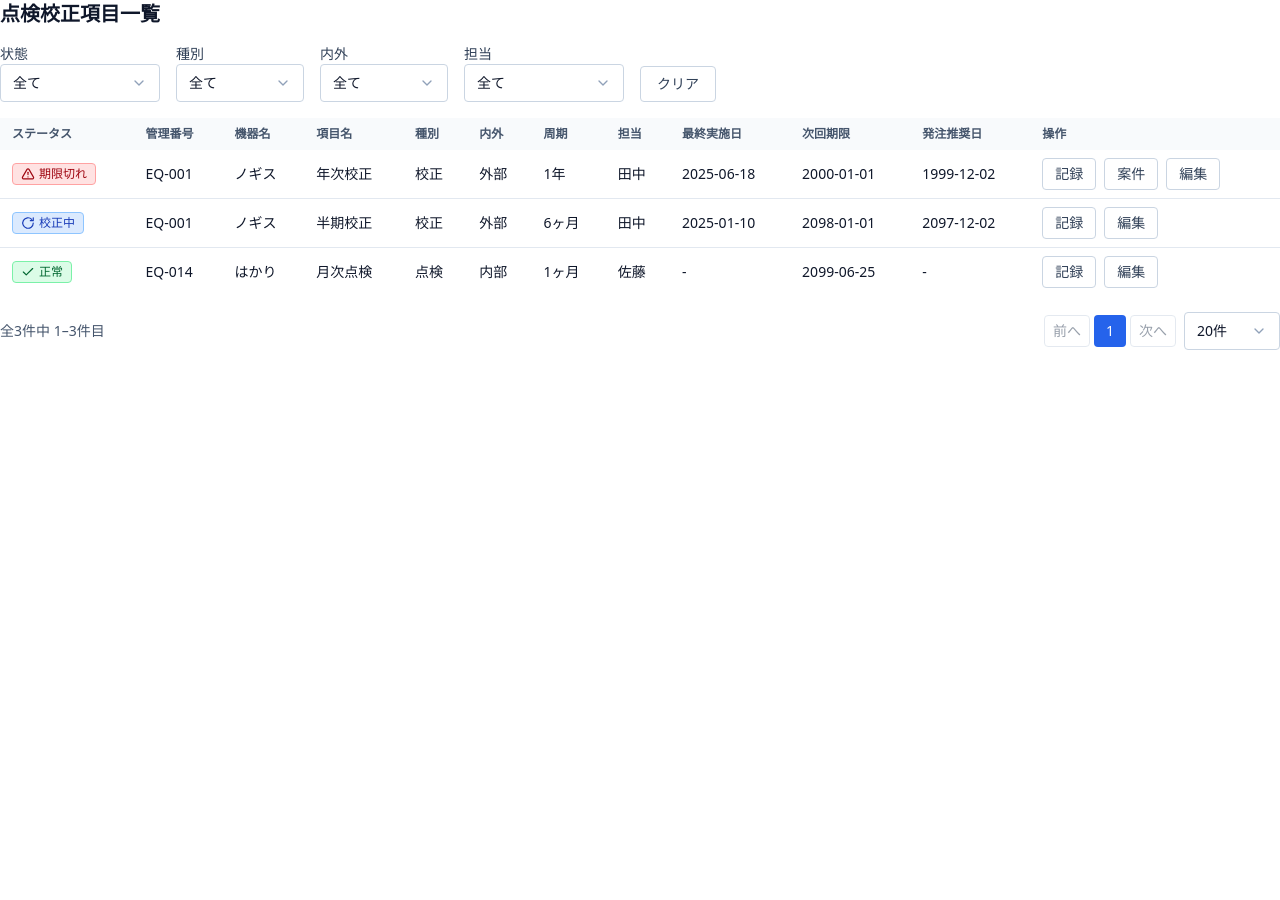
Test: ServiceItemList: モーダル起動 › [案件]で対象項目の ServiceOrderModal が開く
What coordinates should you click on to do the following:
click the button "案件"
I would click on:
 (1131, 174)
Its box is x1=1104 y1=158 x2=1158 y2=190.
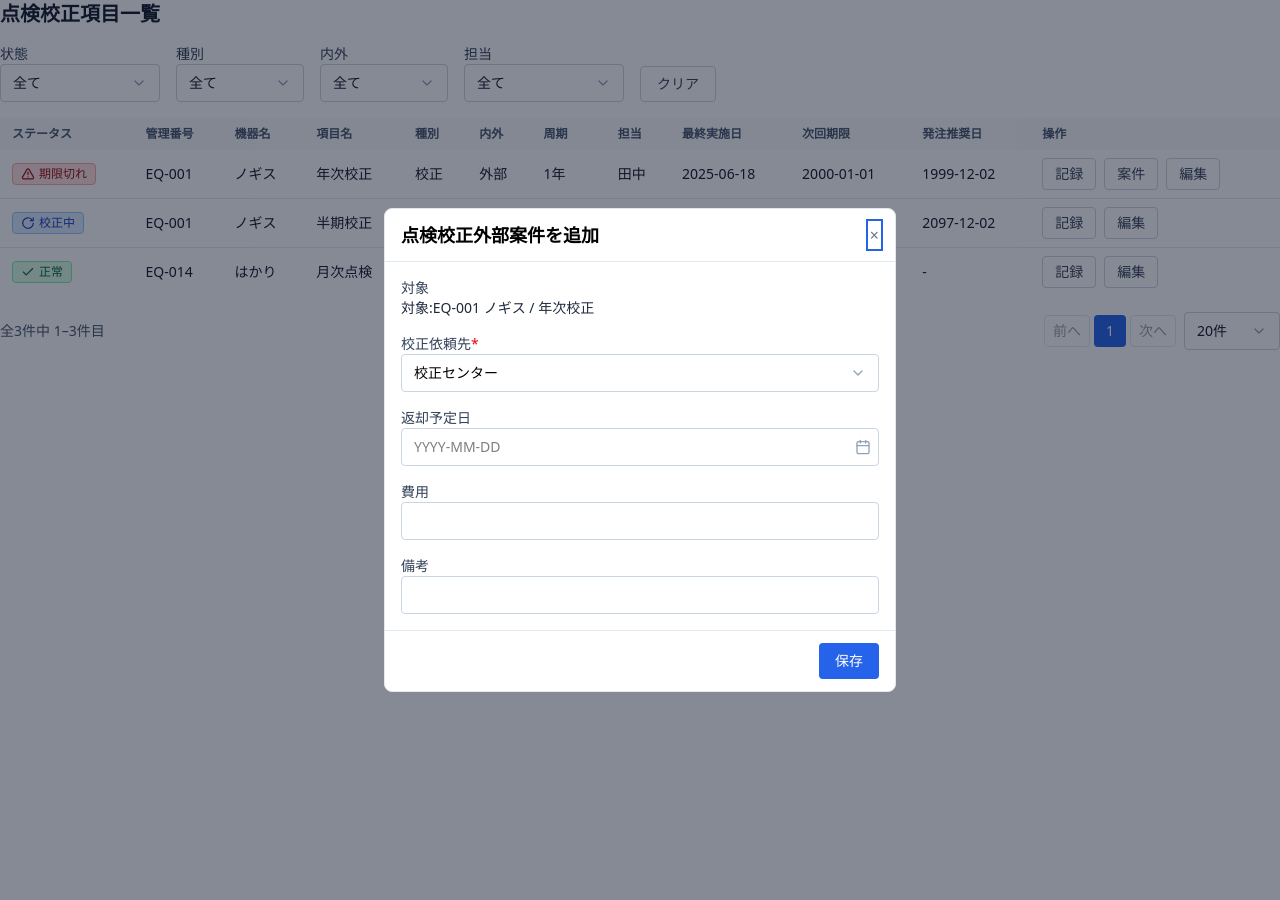
expect the text "対象:EQ-001 ノギス / 年次校正" is shown: met, box x1=401 y1=298 x2=594 y2=317
